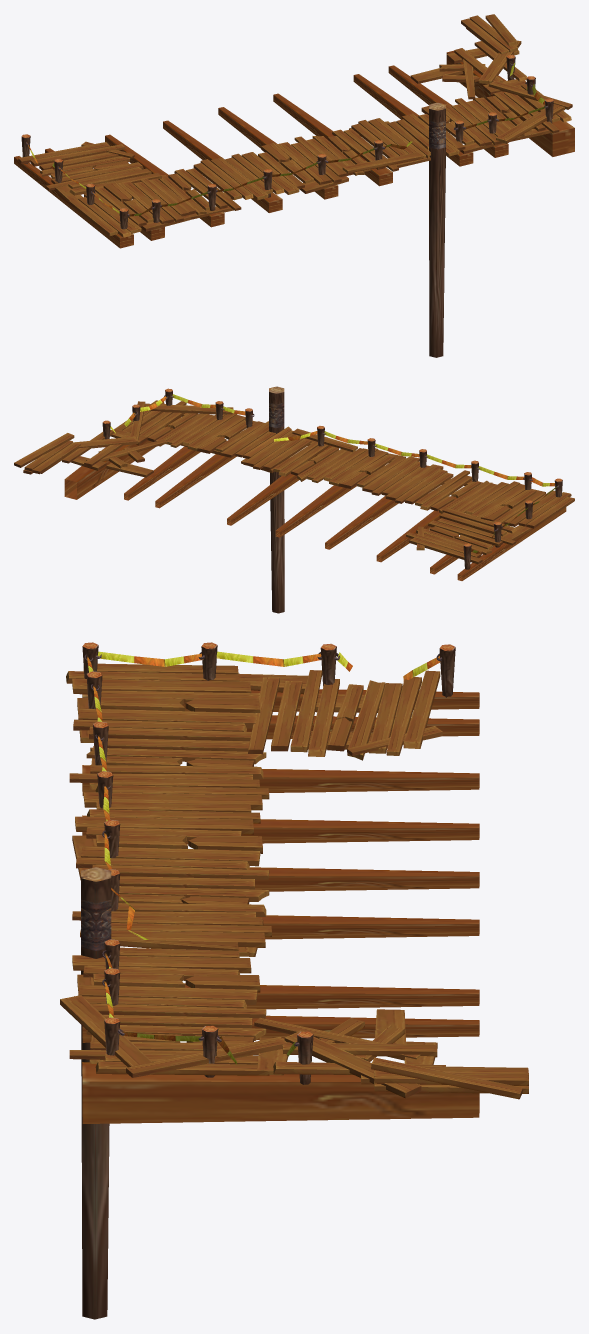
File: qiao_009.FBX
The picture shows the model from 3 angles, top to bottom: view 1: azimuth 30°, elevation 25°; view 2: azimuth 150°, elevation 25°; view 3: azimuth 270°, elevation 25°; orthographic projection. The views are drawn at different scales.
Visible parts, largest first — view 1: qiao_009, Group006; view 2: qiao_009, Group006; view 3: qiao_009, Group006.
Boxes of the visible parts, x1,y1,x2,y2 form: qiao_009: [14, 14, 574, 357]; Group006: [27, 63, 546, 216]; qiao_009: [14, 386, 574, 613]; Group006: [110, 394, 557, 553]; qiao_009: [60, 642, 528, 1319]; Group006: [87, 651, 440, 1064].
Size of the model in its own units: 3179 by 1480 by 1429.
2 materials, 2 textured.
